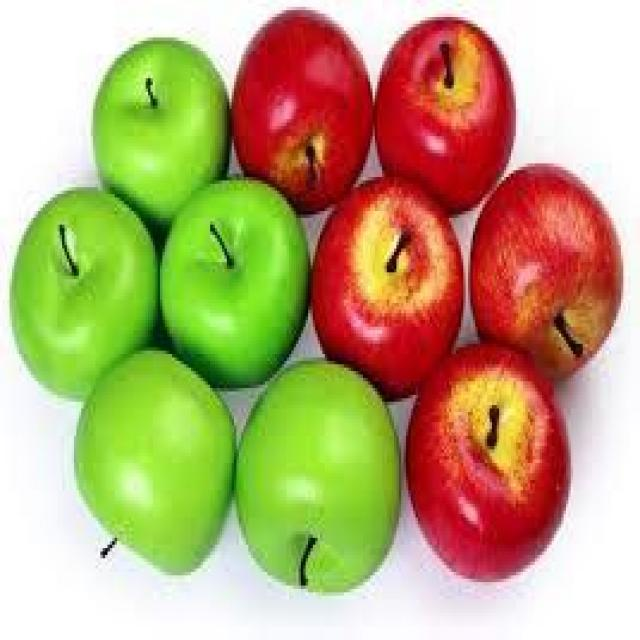fresh_apple: (407, 346, 584, 580), (238, 361, 404, 596), (76, 346, 236, 574), (9, 185, 162, 404), (470, 163, 621, 374), (378, 3, 518, 215), (232, 7, 372, 214), (98, 31, 229, 228)
